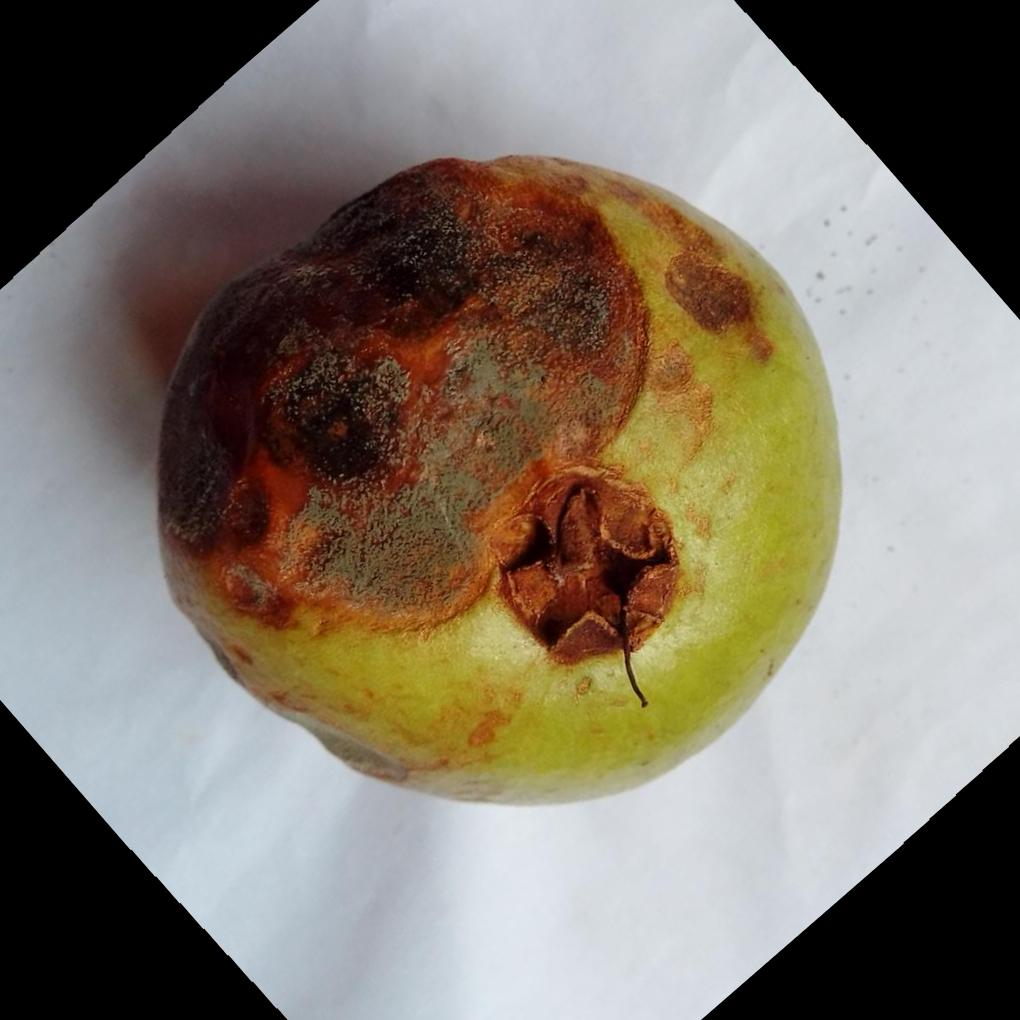FreshOrange: (150, 153, 842, 811)
